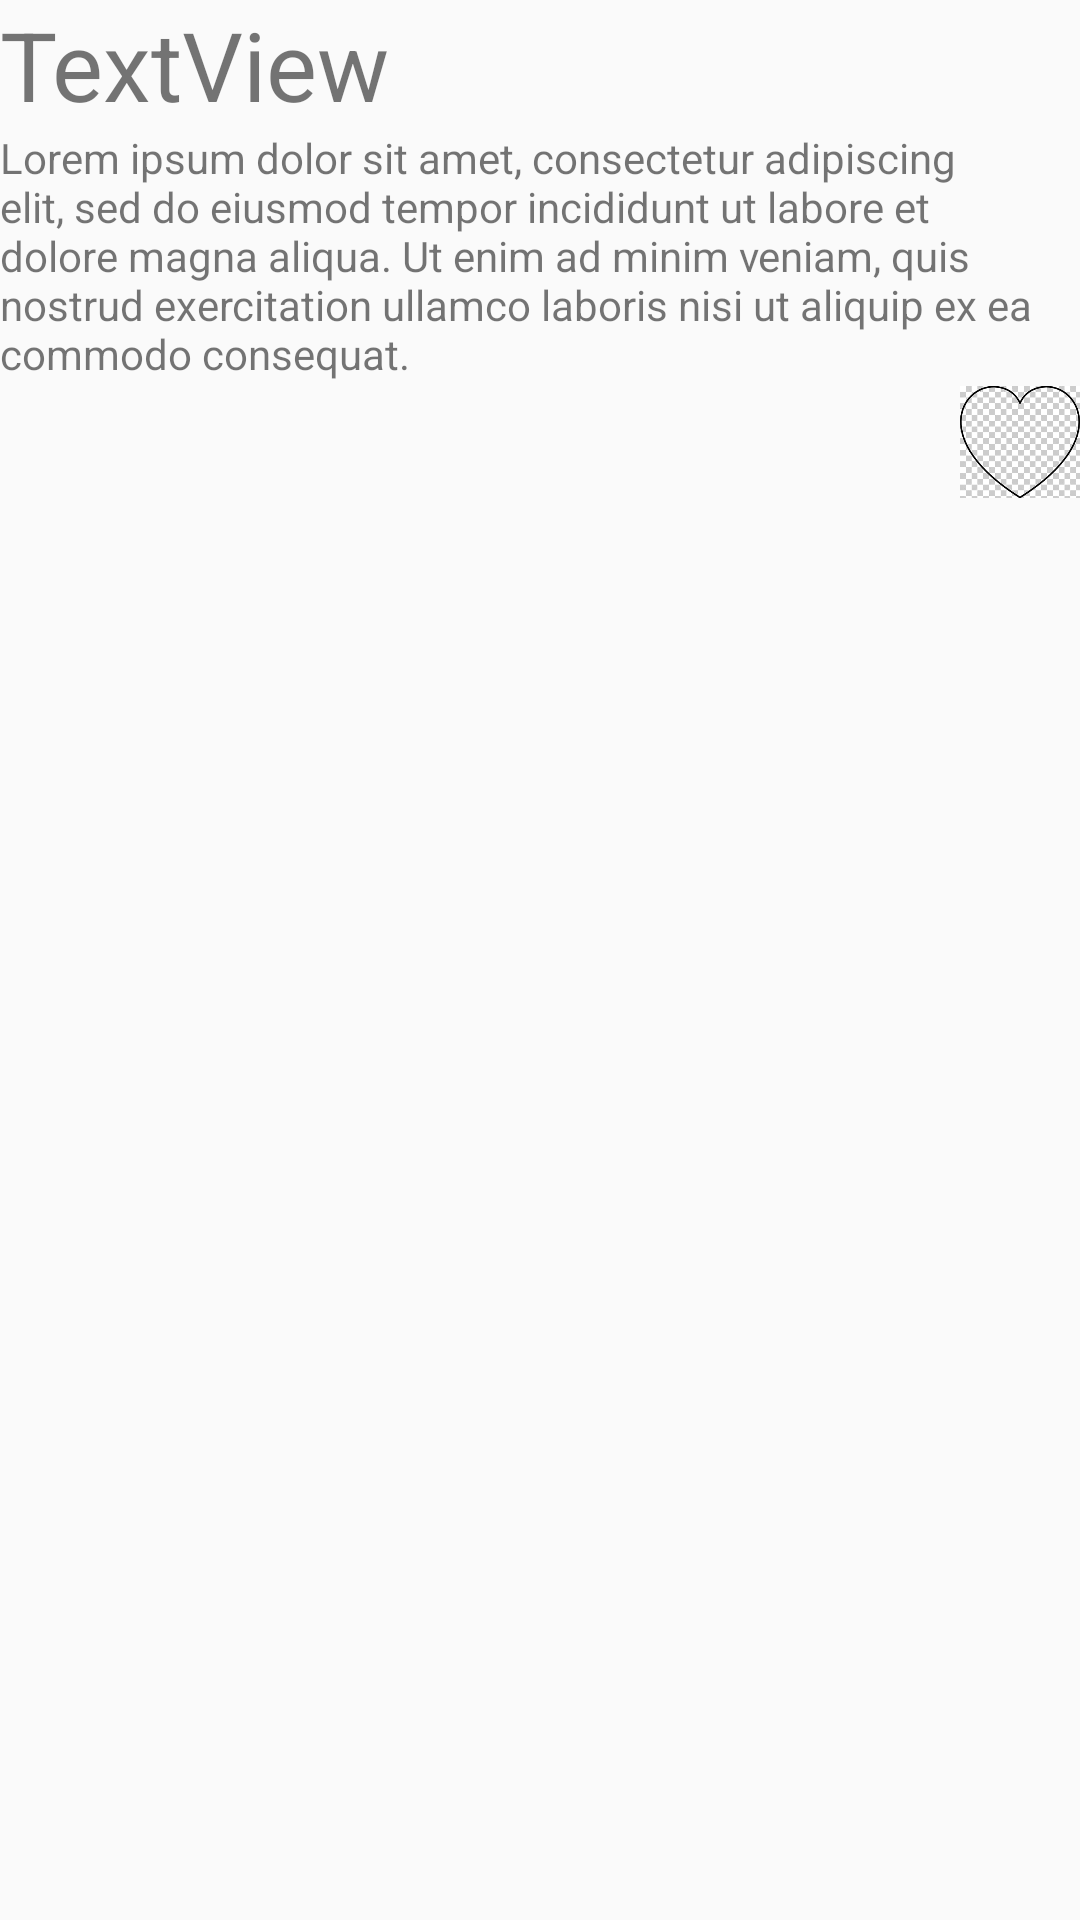

Icon click points for this 1080 × 1920 phone screenshot, format point (x, y):
heart: point (1020, 442)
